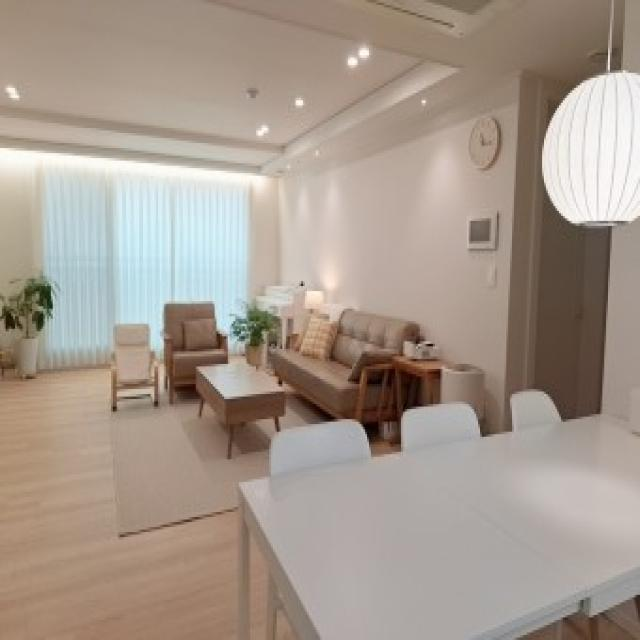Chair: (102, 317, 162, 411), (157, 291, 229, 368)
Sofa: (278, 310, 416, 425)
Table: (229, 413, 640, 635), (192, 356, 288, 438)
window: (16, 157, 254, 348)
